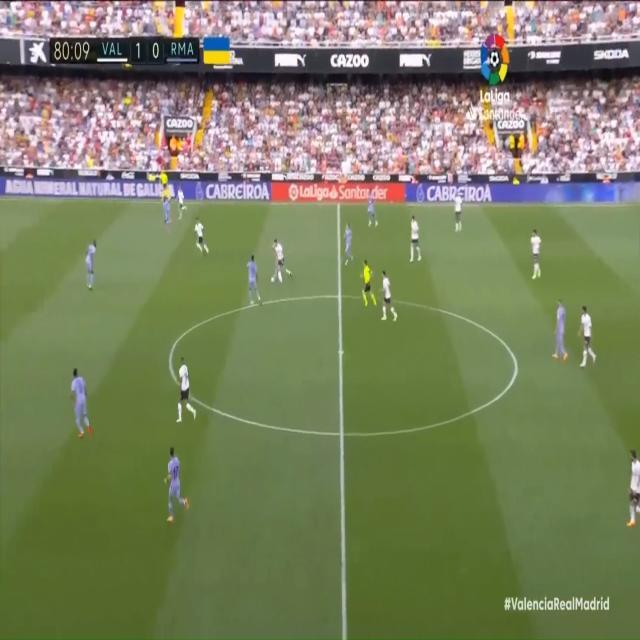ball: (271, 271, 277, 287)
player: (159, 436, 190, 524), (69, 363, 93, 439), (175, 355, 197, 425), (578, 301, 599, 370), (625, 444, 640, 533), (379, 263, 400, 321), (243, 254, 264, 311), (84, 233, 102, 296), (553, 294, 568, 363), (272, 237, 290, 286), (194, 215, 213, 260), (531, 223, 545, 284), (408, 212, 422, 266), (342, 220, 357, 270), (365, 186, 381, 232), (176, 177, 187, 224), (160, 183, 172, 226), (454, 188, 462, 230)
referee: (359, 254, 379, 311), (161, 169, 171, 202)
